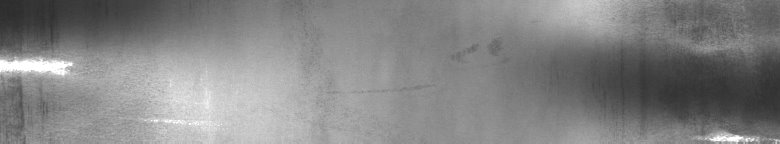ke: (4, 28, 78, 136)
